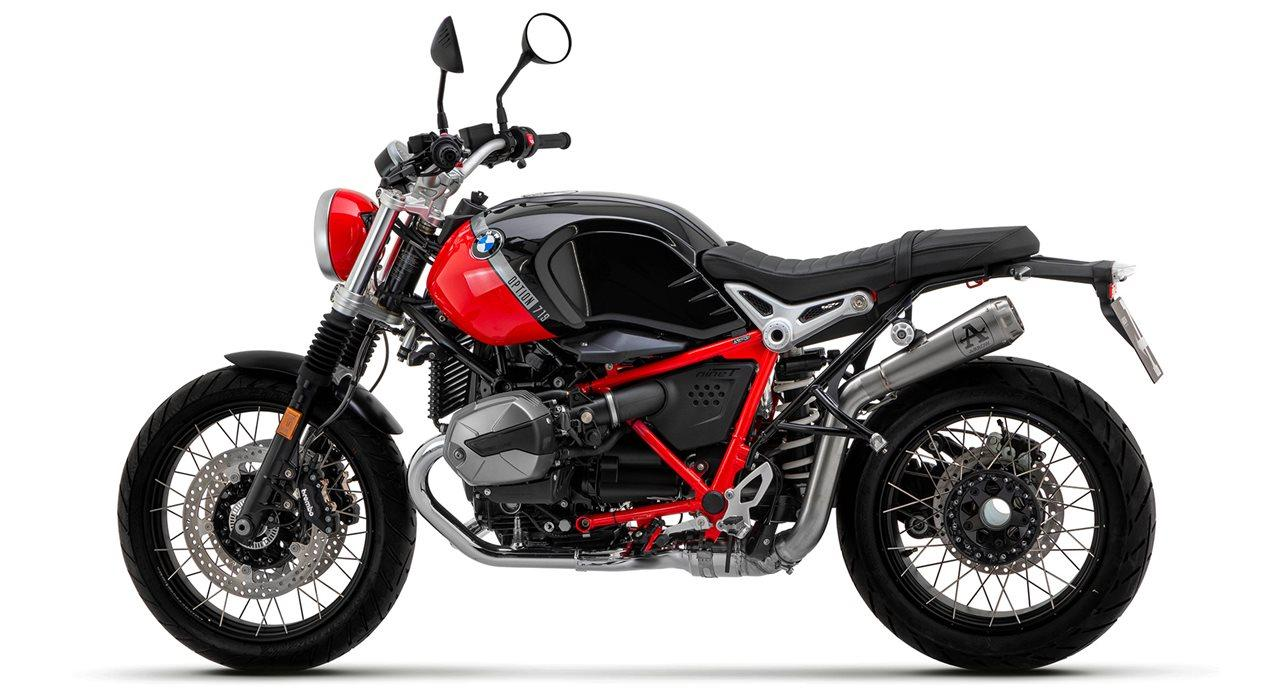engine-chasis: (443, 255, 780, 573), (773, 346, 827, 413), (778, 430, 816, 498), (783, 395, 820, 425)
exhaust: (405, 434, 850, 579), (838, 295, 1026, 419), (821, 408, 850, 430)
frontside: (224, 187, 518, 546)
handlebar: (374, 11, 573, 212)
motorbike: (117, 11, 1164, 671)
rearside: (723, 254, 1164, 561)
seat: (701, 225, 1040, 301)
tank: (426, 190, 747, 347)
wheel: (836, 355, 1159, 674), (117, 364, 418, 674), (296, 320, 389, 488), (368, 333, 390, 394), (937, 428, 988, 438)
